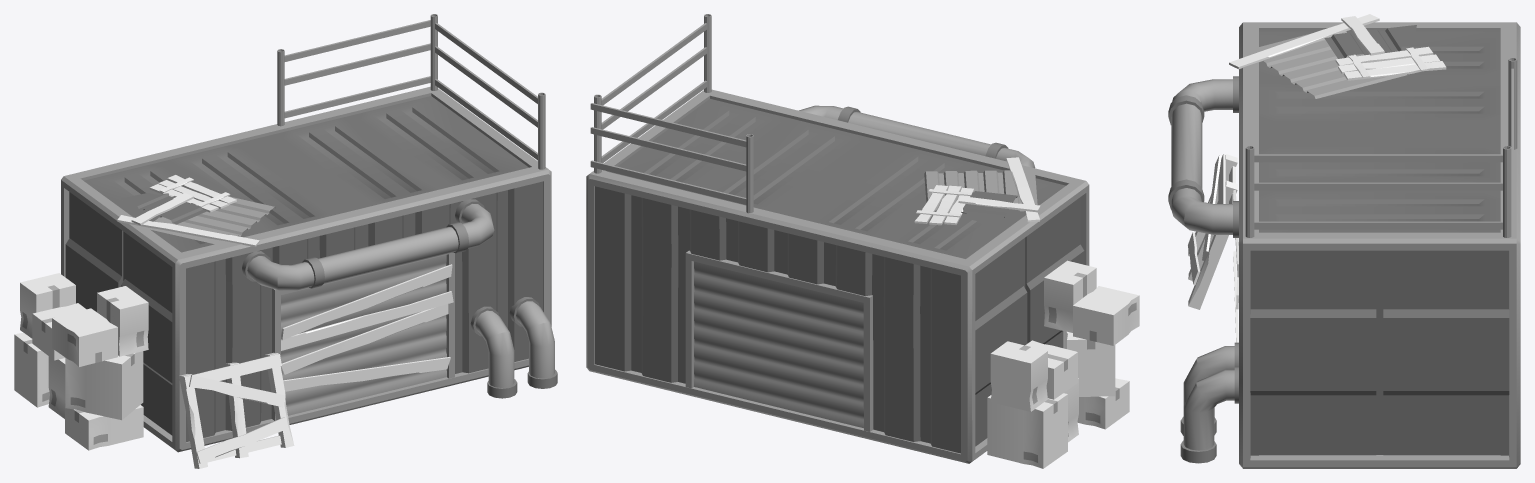
Rendered from barracks.glb.
The picture shows the model from 3 angles, left to right: view 1: azimuth 30°, elevation 25°; view 2: azimuth 150°, elevation 25°; view 3: azimuth 270°, elevation 25°; orthographic projection. The views are drawn at different scales.
Visible parts, largest first — view 1: Body; view 2: Body; view 3: Body.
Part boxes in pixels (x1,y1,x2,y2): Body: (14,14,557,468); Body: (586,14,1139,468); Body: (1168,14,1520,468).
Size of the model in its own units: 14 by 8 by 7.94.
2 materials, 1 textured.
